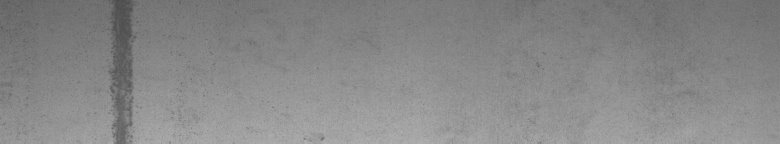hd: (100, 4, 138, 136)
